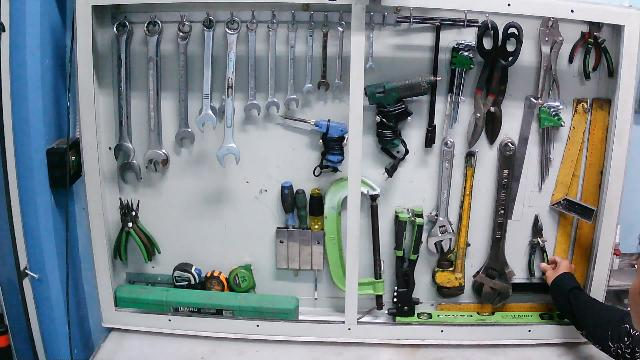tang_kombinasi: (523, 211, 553, 283)
